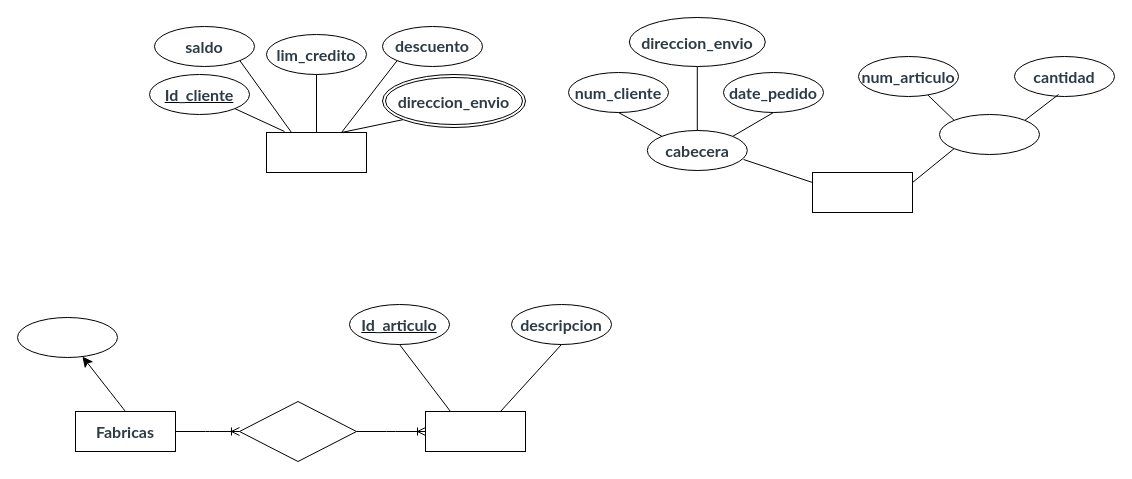
Image size: 1132x479. Some labels were removed from this diagram. Here are the shapes that lost their labels. From the top down, the centre of each, then its label:
At pixel 316 152: "Clientes".
At pixel 989 134: "cuerpo".
At pixel 862 192: "Pedidos".
At pixel 67 337: "Id_f abricas".
At pixel 297 431: "Relationship".
At pixel 475 431: "Artículos".
